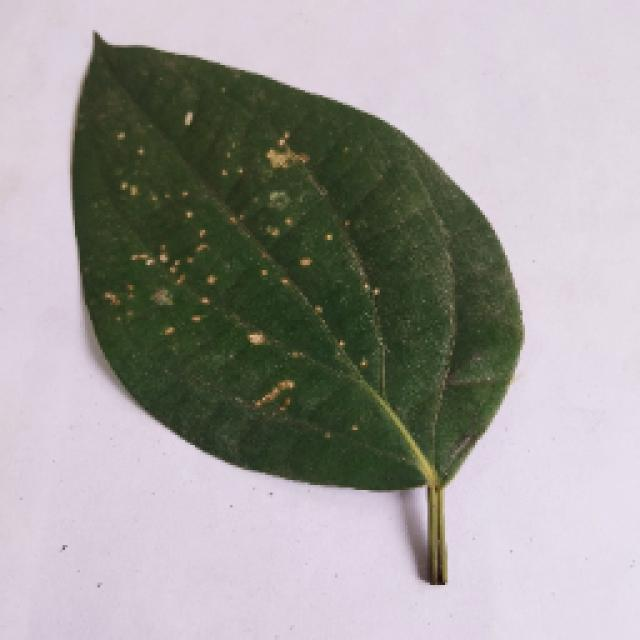pollu-disease: (43, 40, 595, 592)
